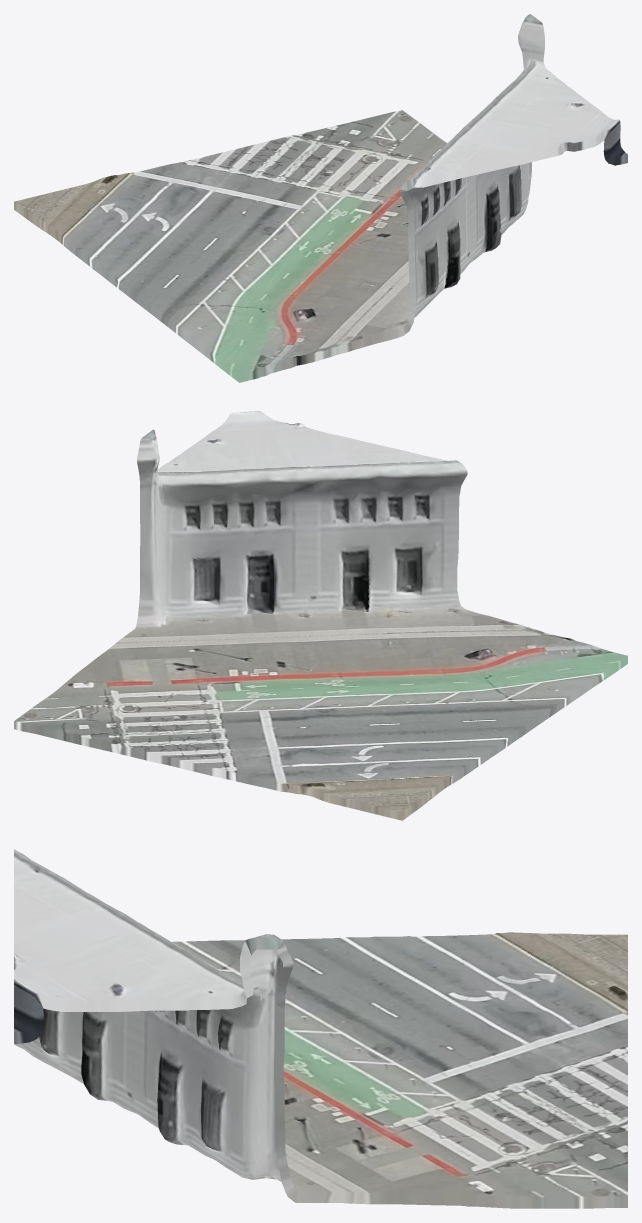
The model's file is z20-167786-405216-h0-yup-uvflip-v3-world.glb.
3 renders of one model, top to bottom at view 1: azimuth 30°, elevation 25°; view 2: azimuth 150°, elevation 25°; view 3: azimuth 270°, elevation 25°, orthographic. The views are drawn at different scales.
Size of the model in its own units: 30.16 by 15.04 by 30.32.
Materials: 1 (1 with a texture image).
